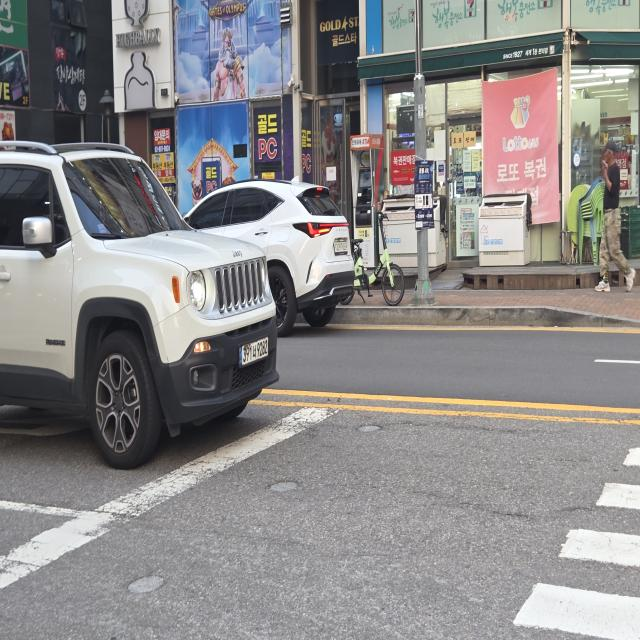car: (0, 106, 283, 484), (160, 154, 370, 335)
